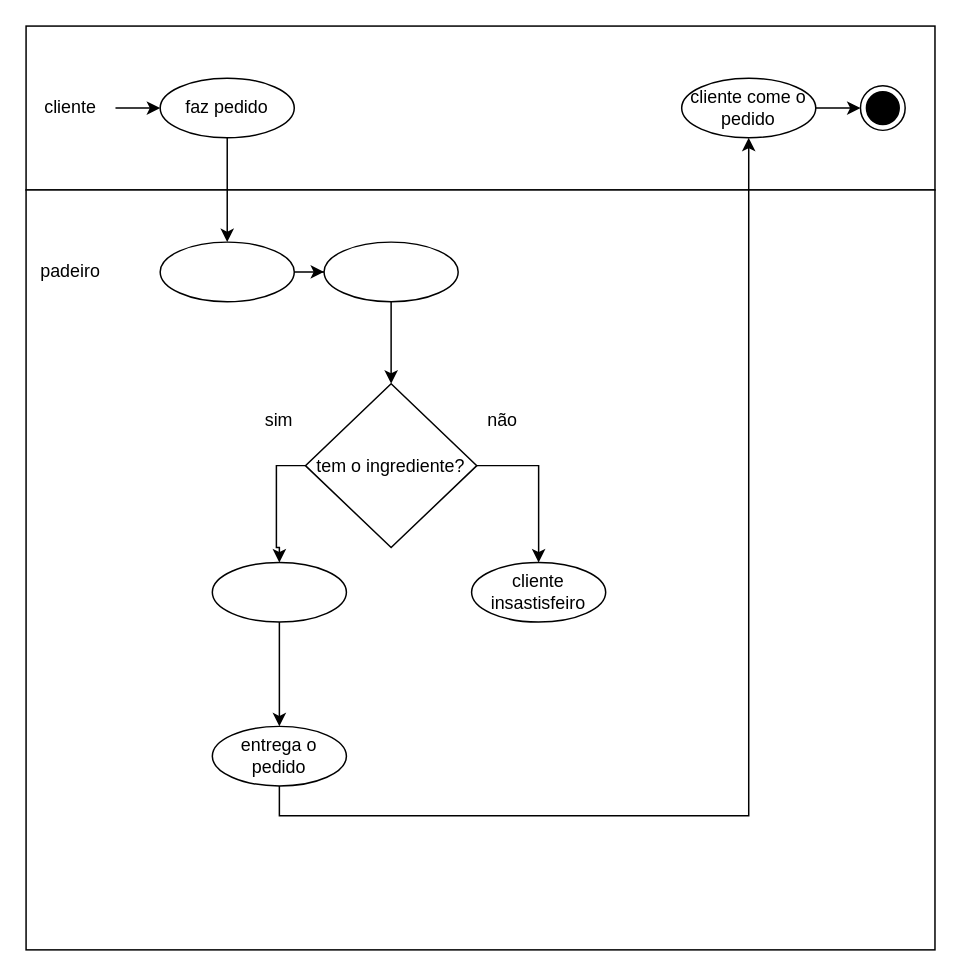
This 961x976 diagram has some shape labels left out. Each missing label, with the box of its shape:
ingredientes: (323, 241, 458, 302)
prepara o pedido: (211, 561, 346, 622)
recebe pedido: (159, 241, 294, 302)
